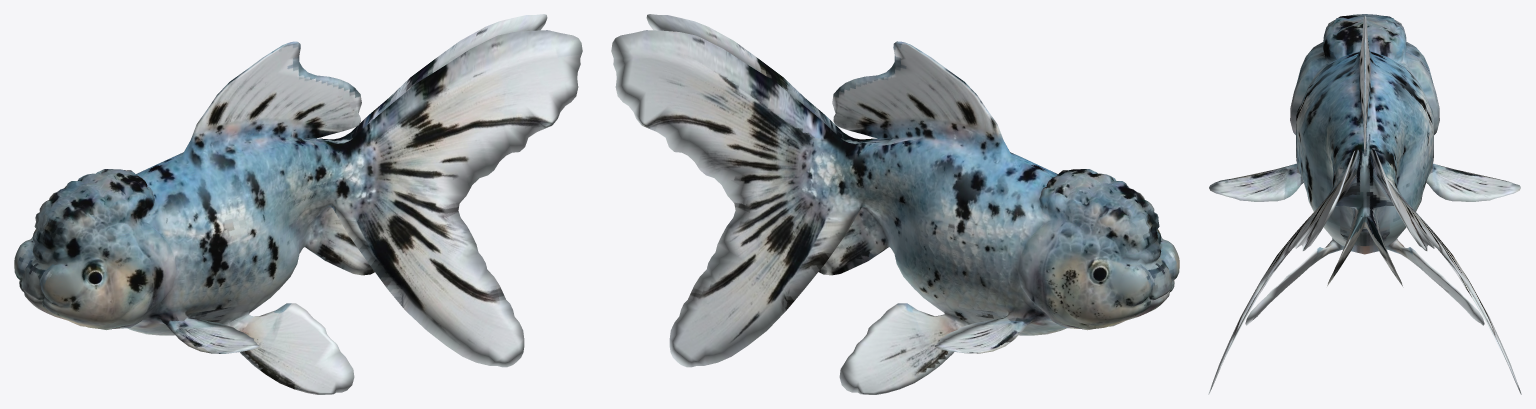
File: fish.glb
The picture shows the model from 3 angles, left to right: view 1: azimuth 30°, elevation 25°; view 2: azimuth 150°, elevation 25°; view 3: azimuth 270°, elevation 25°; orthographic projection.
Parts seen in each view (by area): view 1: fish; view 2: fish; view 3: fish.
Part boxes in pixels (box(x1,y1,x2,y2)): fish: box(14, 14, 582, 394); fish: box(611, 14, 1179, 394); fish: box(1208, 14, 1521, 394).
Size of the model in its own units: 0.12 by 0.0655 by 0.06.
Materials: 1 (1 with a texture image).
